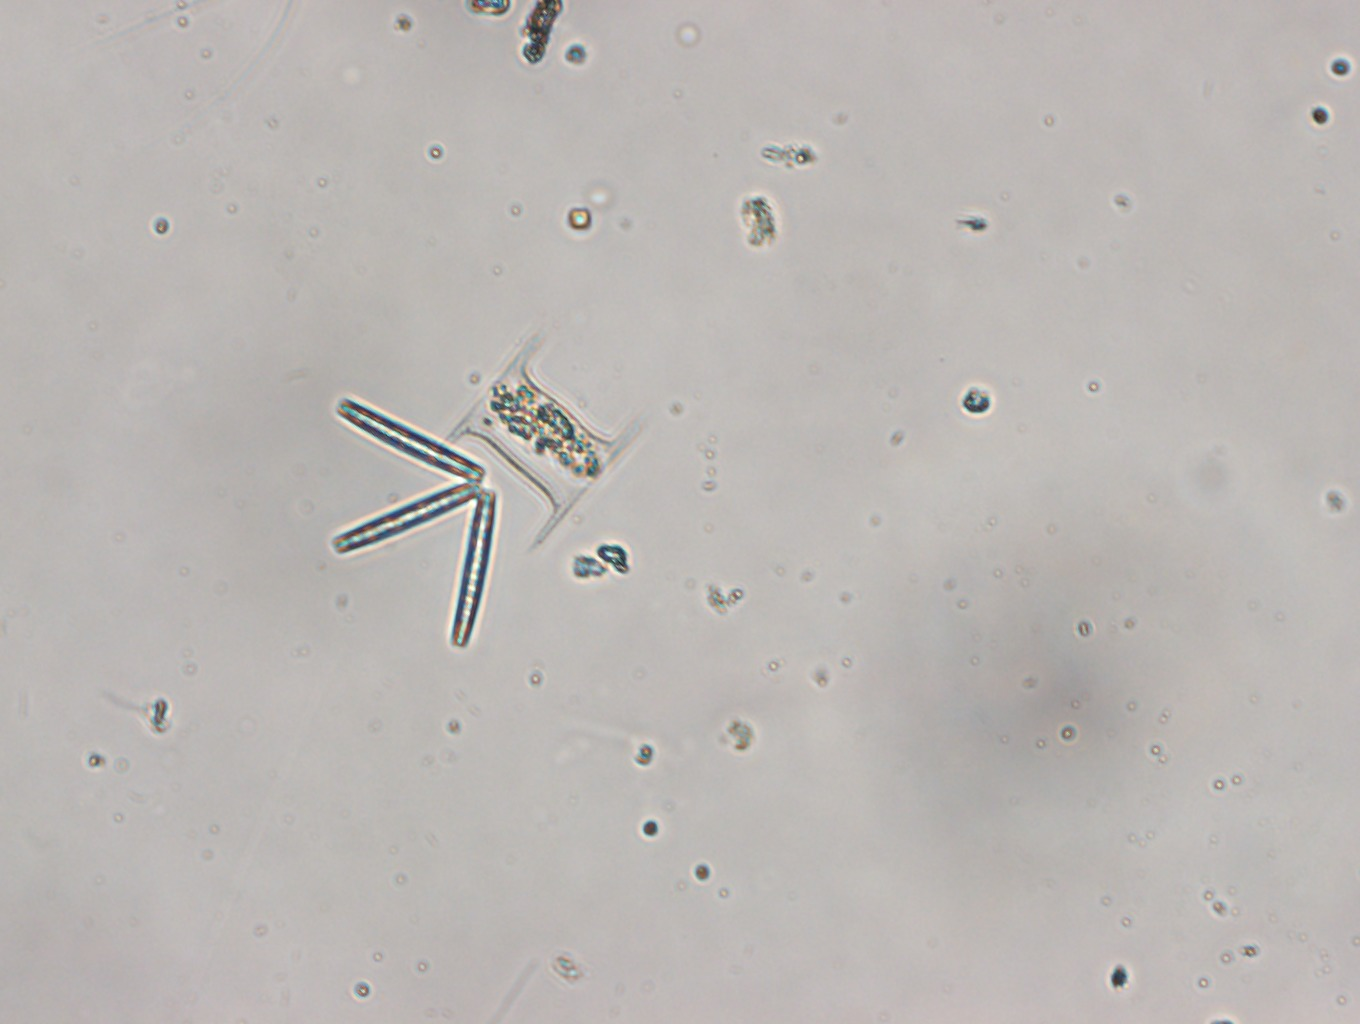eucampia: (443, 329, 652, 551)
thalassionema nitzschioides: (330, 395, 502, 649)
